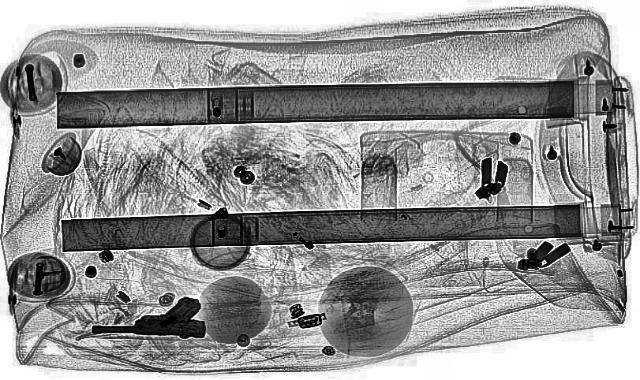Gun: (82, 294, 210, 344)
